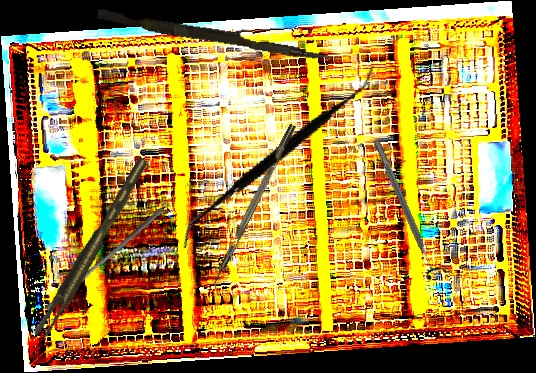Chopper: (205, 123, 305, 297)
Fixation Ring: (365, 135, 448, 282)
Pusher: (44, 202, 165, 316), (96, 8, 334, 63)
Spatula Surgical: (180, 27, 377, 287)
Tissue Forceps: (27, 156, 158, 342)
